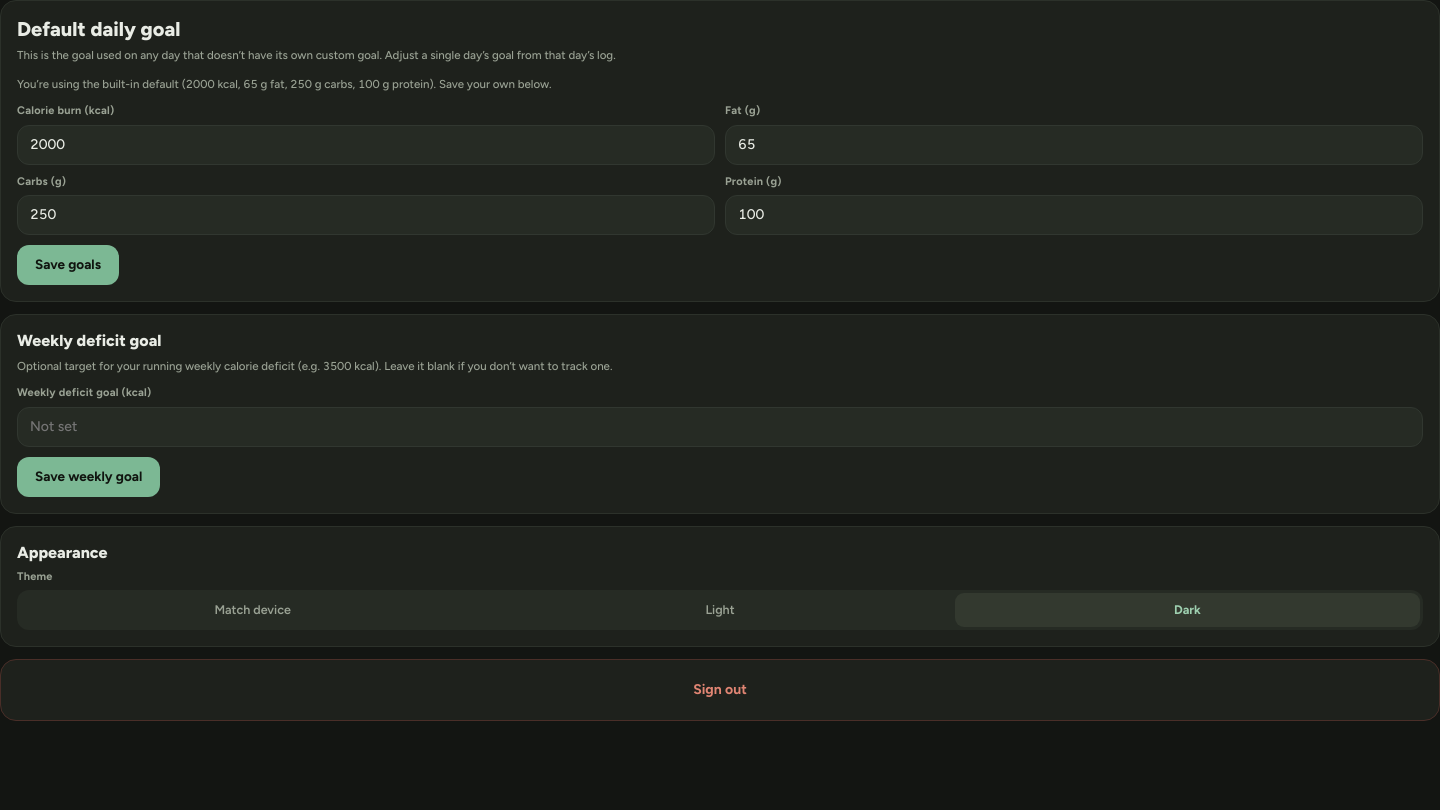
Test: SettingsScreen macro/calorie mismatch warning › warns before saving when macros do not add up to the calorie goal
Check: the heading "Default daily goal" is shown, box [17, 17, 180, 41]
Replace the text in the field labelled "Calorie burn (kcal)" with "5000" at x=366, y=145, box [17, 125, 715, 165]
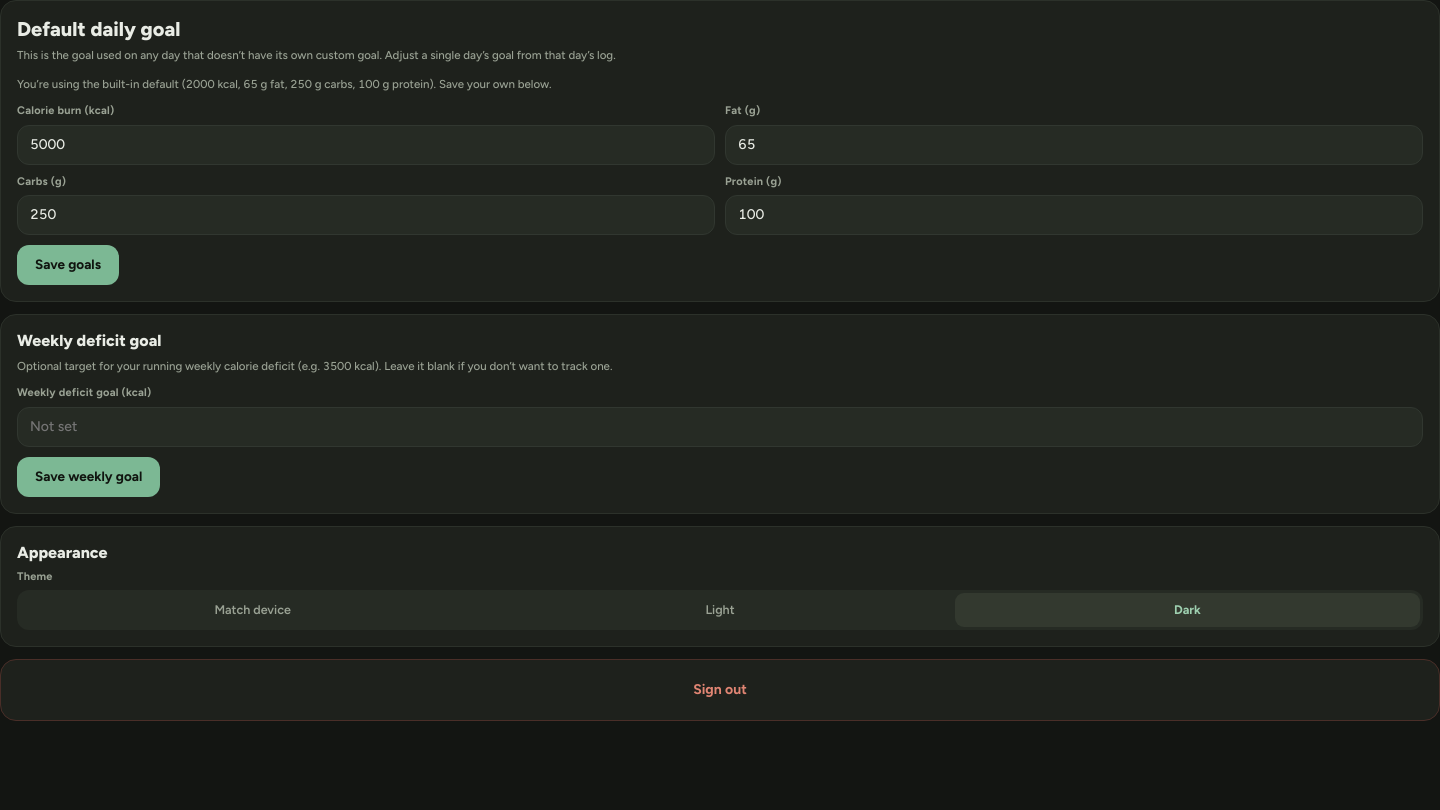
Click the button "Save goals" at x=68, y=265, box [17, 245, 119, 285]
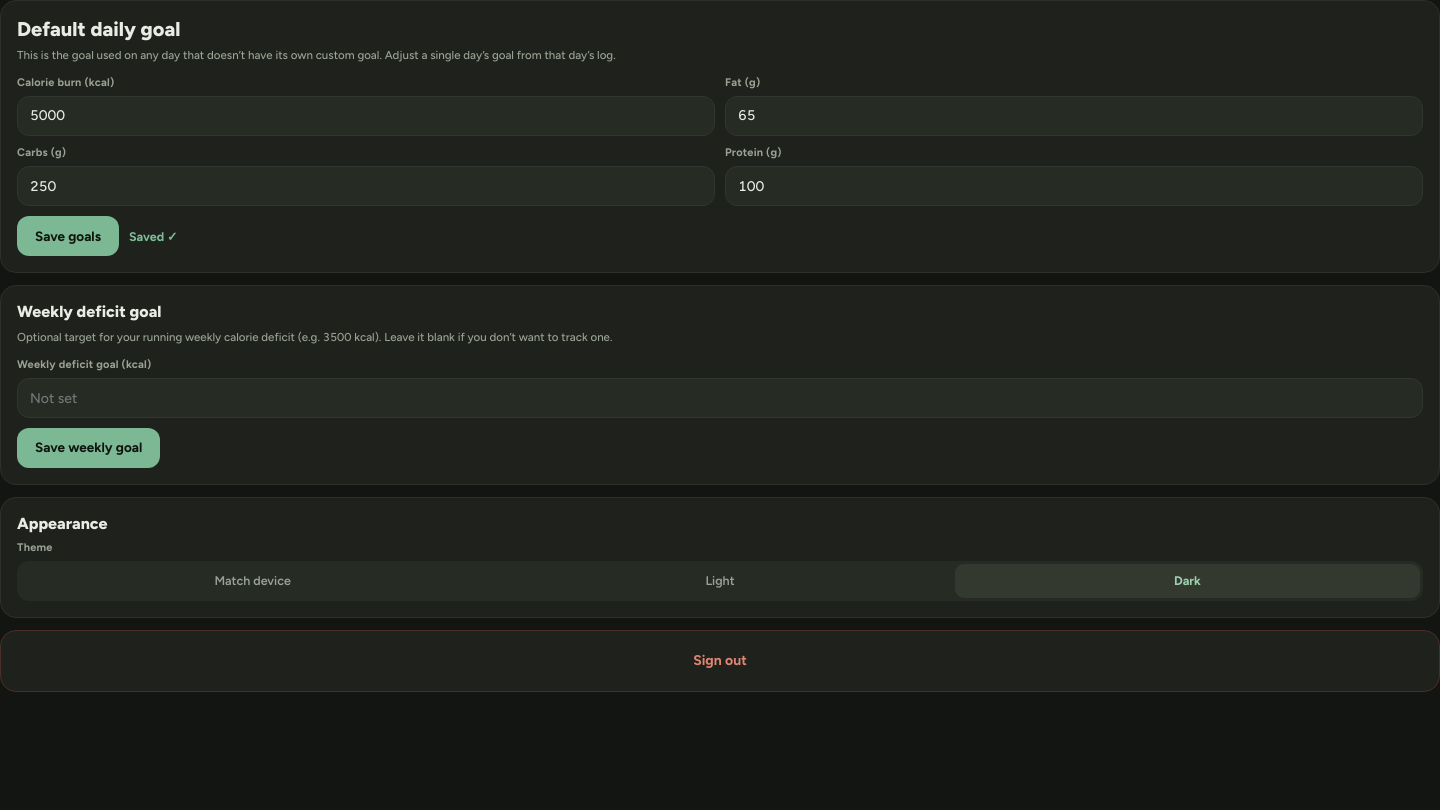
Check: the text "Saved ✓" is shown, box [129, 228, 178, 245]
